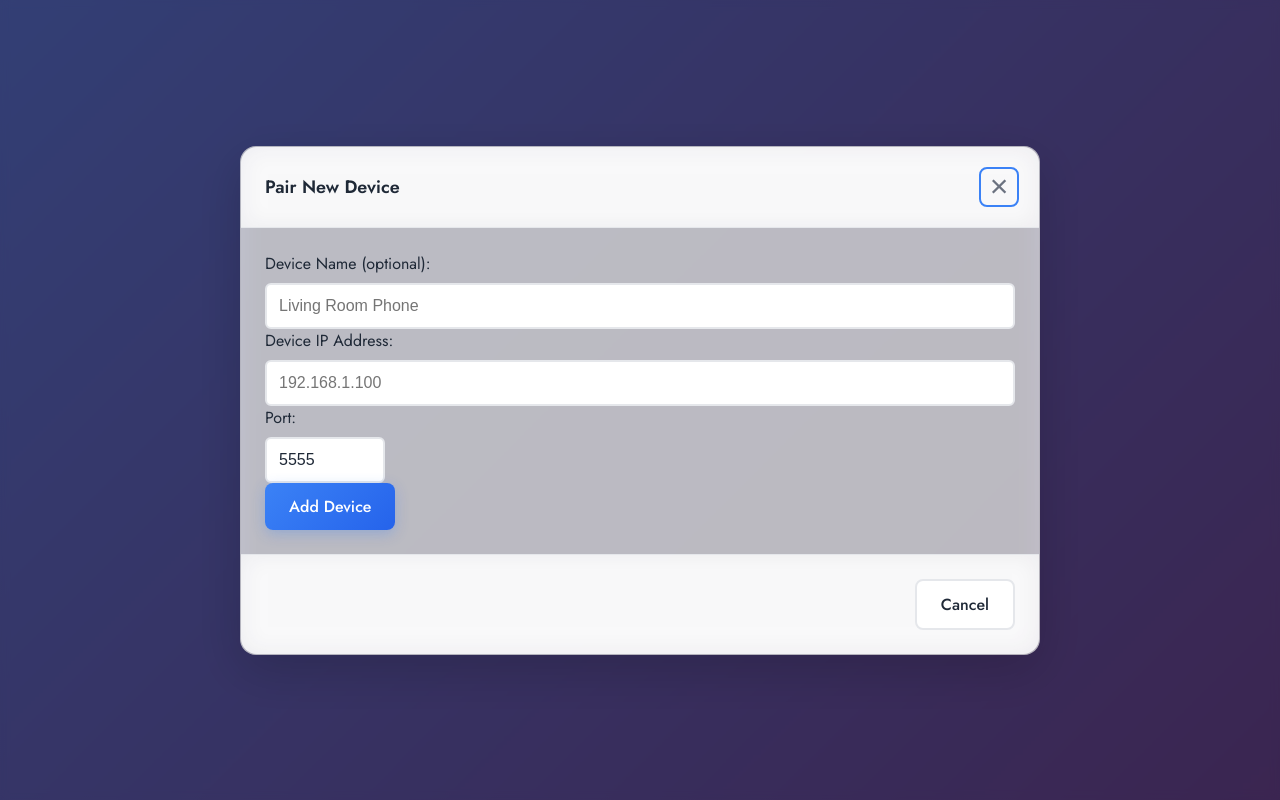
PairDeviceModal › IP address validation › shows error for empty IP address
Click the button "Add Device" at (330, 506), box 265,482 -> 396,530
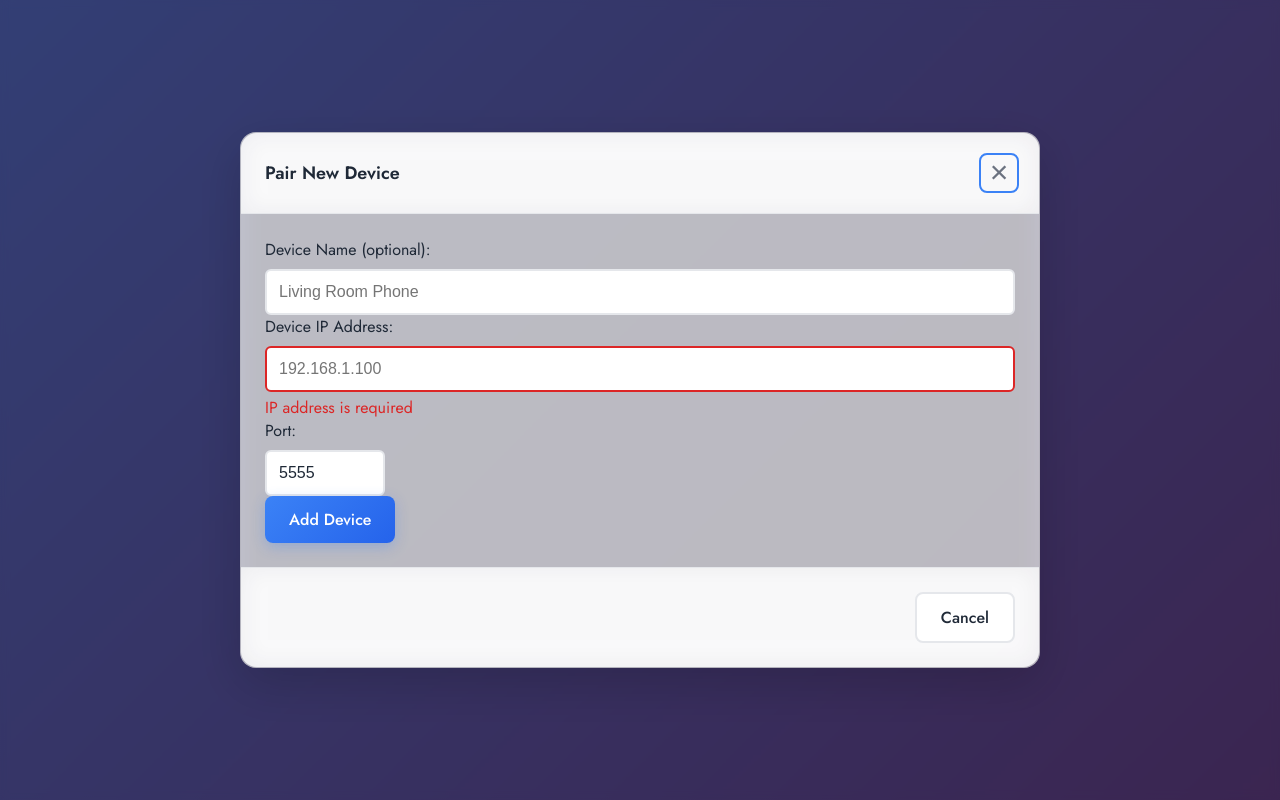
Check: the text "IP address is required" is shown, box 265,396 -> 413,419
